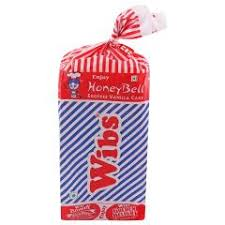bread: (59, 17, 151, 223)
